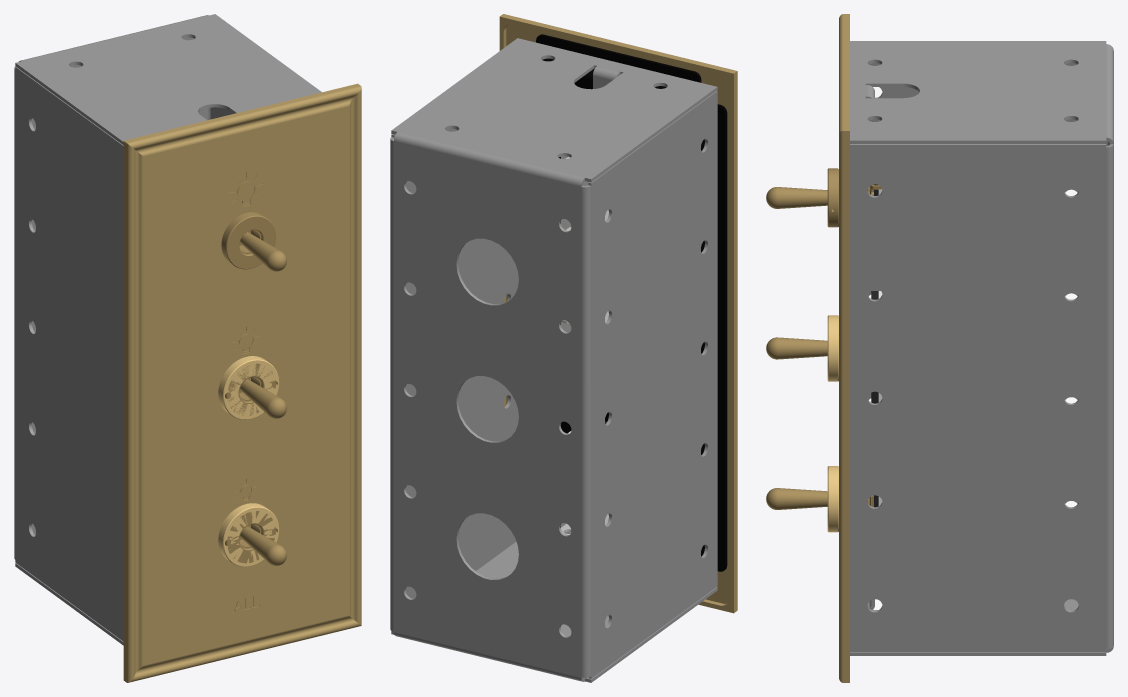
Rendered from Toggle.gltf.
3 views of the same model, side by side, from view 1: azimuth 30°, elevation 25°; view 2: azimuth 150°, elevation 25°; view 3: azimuth 270°, elevation 25° (orthographic). The views are drawn at different scales.
Visible parts, largest first — view 1: SOLID, Back box, Capped Pig Nose Fixing TOGGLE v2, PNF-Toggle v22, Capped Pig Nose Fixing TOGGLE v003, APEM DOLLY TOGGLE SWITCH v016, APEM DOLLY TOGGLE SWITCH v032, APEM DOLLY TOGGLE SWITCH v024, PNF-Toggle v024, PNF-Toggle v023; view 2: Back box, SOLID, 1/2/3/4G Yoke; view 3: Back box, SOLID, APEM DOLLY TOGGLE SWITCH v024, APEM DOLLY TOGGLE SWITCH v016, APEM DOLLY TOGGLE SWITCH v032, Capped Pig Nose Fixing TOGGLE v2, Capped Pig Nose Fixing TOGGLE v003, PNF-Toggle v22.
Boxes of the visible parts, x1,y1,x2,y2 form: SOLID: [123, 83, 361, 682]; Back box: [14, 14, 321, 645]; Capped Pig Nose Fixing TOGGLE v2: [218, 356, 279, 419]; PNF-Toggle v22: [221, 212, 275, 269]; Capped Pig Nose Fixing TOGGLE v003: [218, 503, 279, 566]; APEM DOLLY TOGGLE SWITCH v016: [239, 231, 286, 271]; APEM DOLLY TOGGLE SWITCH v032: [239, 525, 286, 565]; APEM DOLLY TOGGLE SWITCH v024: [239, 378, 286, 418]; PNF-Toggle v024: [225, 511, 275, 563]; PNF-Toggle v023: [225, 363, 275, 415]; Back box: [390, 38, 717, 682]; SOLID: [499, 14, 737, 613]; 1/2/3/4G Yoke: [536, 34, 727, 571]; Back box: [850, 41, 1113, 655]; SOLID: [839, 14, 849, 682]; APEM DOLLY TOGGLE SWITCH v024: [766, 337, 827, 359]; APEM DOLLY TOGGLE SWITCH v016: [766, 187, 827, 208]; APEM DOLLY TOGGLE SWITCH v032: [766, 488, 827, 509]; Capped Pig Nose Fixing TOGGLE v2: [827, 315, 838, 381]; Capped Pig Nose Fixing TOGGLE v003: [827, 466, 838, 532]; PNF-Toggle v22: [827, 168, 838, 227].
Bounding box in the file's own units: 0.075 × 0.165 × 0.0942.
